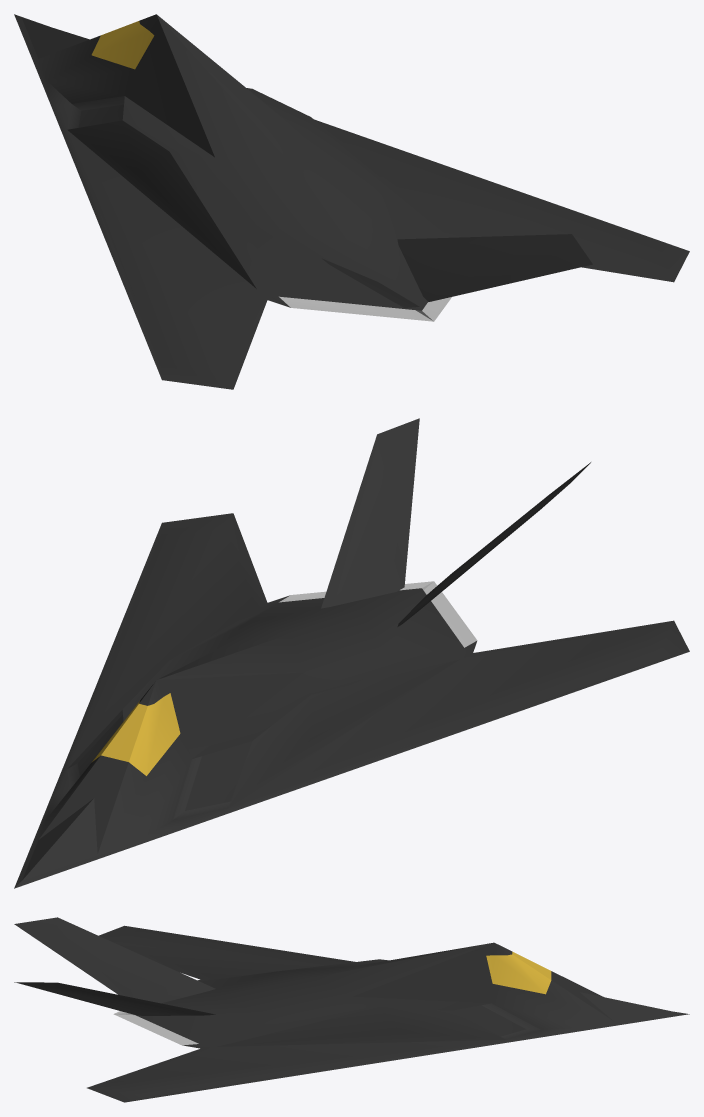
File: nighthawk.fbx
The picture shows the model from 3 angles, top to bottom: view 1: azimuth 30°, elevation 25°; view 2: azimuth 150°, elevation 25°; view 3: azimuth 270°, elevation 25°; orthographic projection. The views are drawn at different scales.
Visible parts, largest first — view 1: Cube.001; view 2: Cube.001; view 3: Cube.001.
Boxes of the visible parts, x1,y1,x2,y2 form: Cube.001: [14, 14, 689, 389]; Cube.001: [14, 418, 689, 888]; Cube.001: [14, 917, 689, 1102].
Bounding box in the file's own units: 2600 × 500 × 4200.
